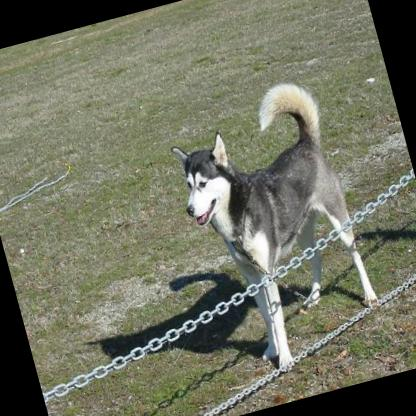Eskimo_dog: (158, 71, 388, 383)
